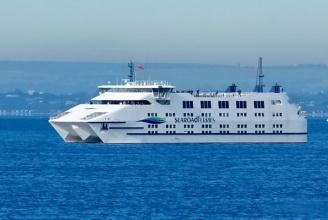youlun: (48, 56, 309, 144)
